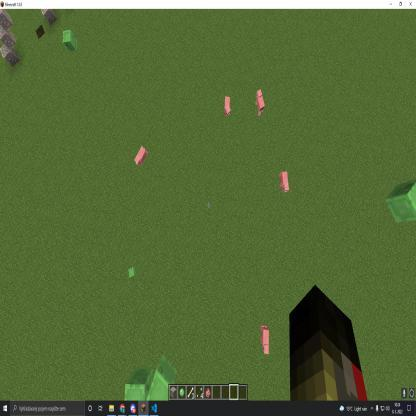pig: (256, 319, 274, 363), (252, 86, 269, 122), (277, 166, 292, 200), (134, 140, 148, 176), (221, 91, 234, 122)
